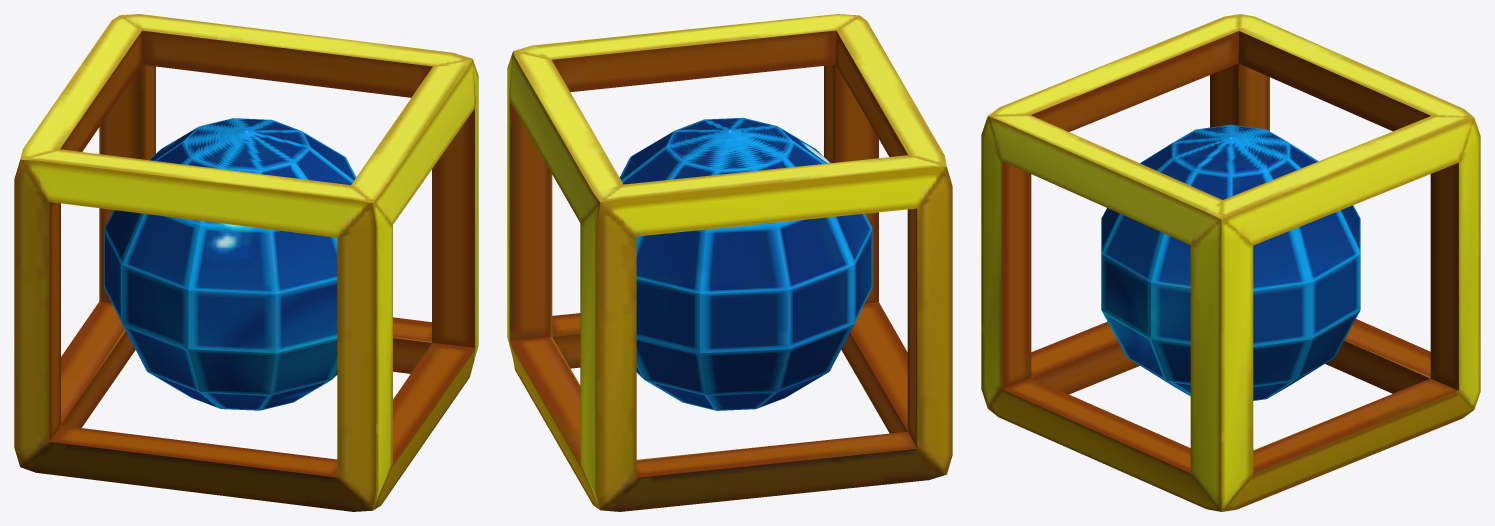
Rendered from dropbit.fbx.
3 renders of one model, left to right at view 1: azimuth 30°, elevation 25°; view 2: azimuth 150°, elevation 25°; view 3: azimuth 270°, elevation 25°, orthographic. The views are drawn at different scales.
Visible parts, largest first — view 1: noalpha, alpha; view 2: noalpha, alpha; view 3: noalpha, alpha.
Boxes of the visible parts, x1,y1,x2,y2 form: noalpha: [14, 14, 478, 511]; alpha: [104, 118, 356, 410]; noalpha: [507, 14, 952, 511]; alpha: [619, 117, 872, 410]; noalpha: [981, 14, 1480, 511]; alpha: [1101, 124, 1360, 400].
Size of the model in its own units: 1.08 by 0.7116 by 1.08.
2 materials, 2 textured.
